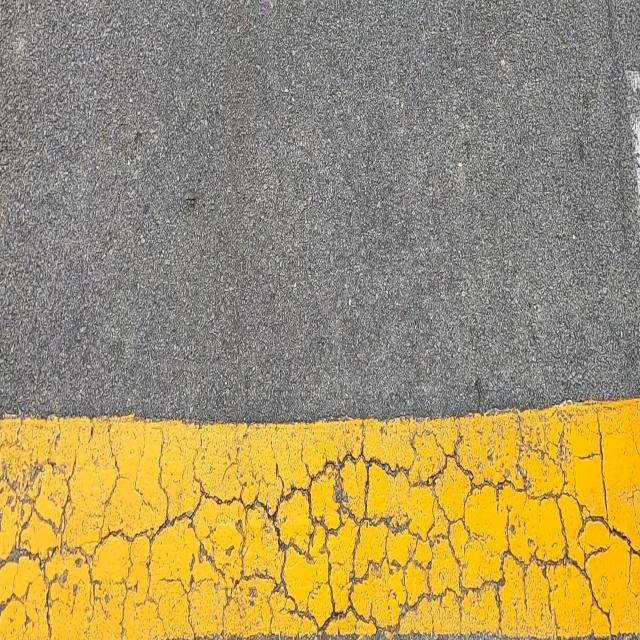Retak-Buaya: (0, 407, 638, 640)
